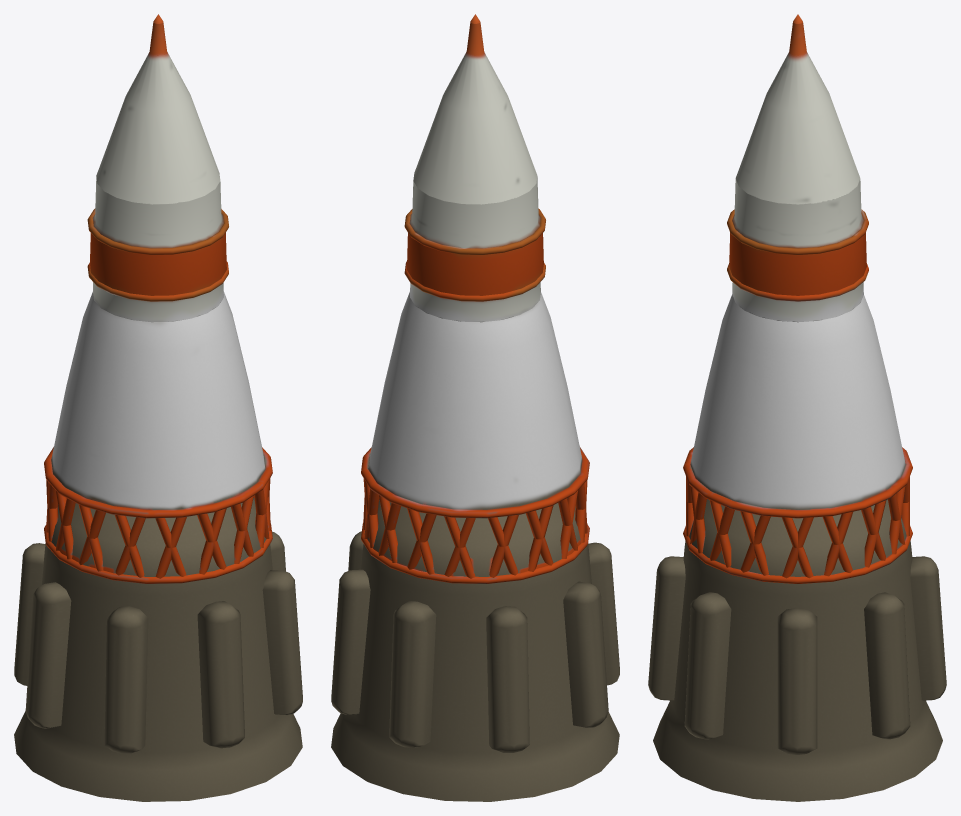
3 renders of one model, left to right at view 1: azimuth 30°, elevation 25°; view 2: azimuth 150°, elevation 25°; view 3: azimuth 270°, elevation 25°, orthographic.
Parts seen in each view (by area): view 1: Base1, P2, P3, P4, P1; view 2: Base1, P2, P3, P4, P1; view 3: Base1, P2, P3, P4, P1.
Part boxes in pixels (x1,y1,x2,y2): Base1: [14, 498, 302, 801]; P2: [51, 291, 265, 509]; P3: [87, 177, 228, 322]; P4: [96, 14, 220, 204]; P1: [44, 447, 272, 583]; Base1: [331, 498, 619, 801]; P2: [368, 292, 582, 509]; P3: [404, 176, 545, 322]; P4: [413, 14, 537, 204]; P1: [361, 447, 589, 583]; Base1: [648, 499, 946, 801]; P2: [690, 294, 905, 509]; P3: [727, 179, 868, 322]; P4: [735, 14, 860, 204]; P1: [683, 447, 912, 583].
Size of the model in its own units: 2.68 by 7.2 by 2.68.
